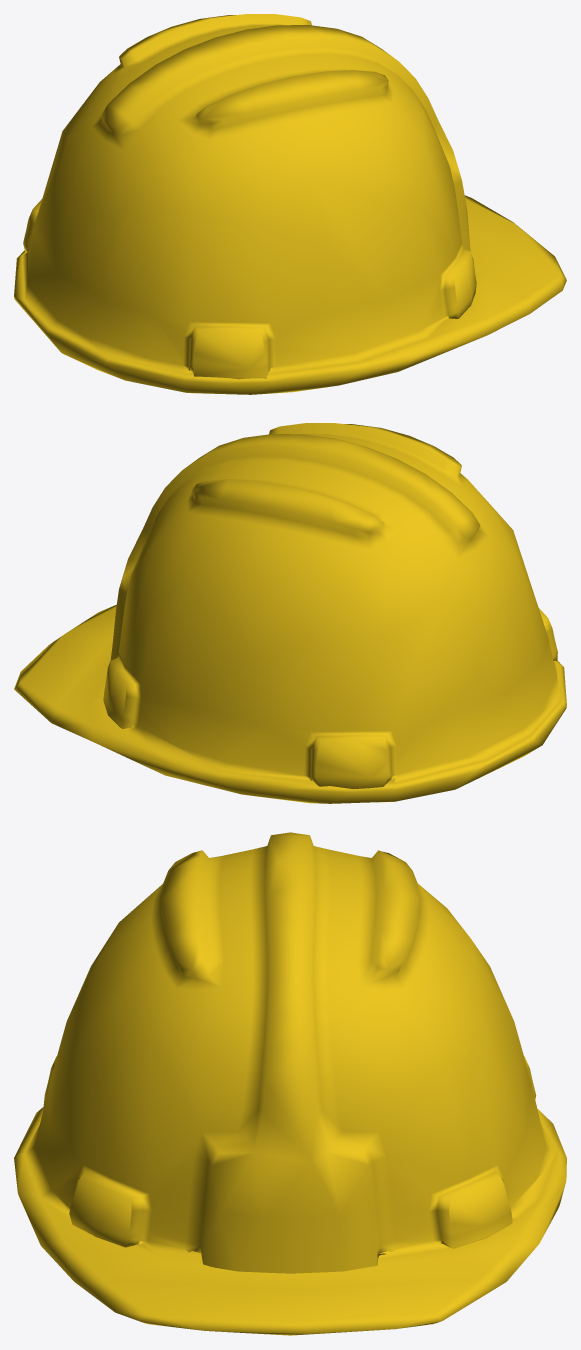
File: proteccion_personal.glb
The picture shows the model from 3 angles, top to bottom: view 1: azimuth 30°, elevation 25°; view 2: azimuth 150°, elevation 25°; view 3: azimuth 270°, elevation 25°; orthographic projection. The views are drawn at different scales.
Visible parts, largest first — view 1: Cube; view 2: Cube; view 3: Cube.
Boxes of the visible parts, x1=… form: Cube: x1=14, y1=14, x2=566, y2=394; Cube: x1=14, y1=423, x2=566, y2=803; Cube: x1=14, y1=832, x2=566, y2=1335.
Bounding box in the file's own units: 11.32 × 6.05 × 9.62.
